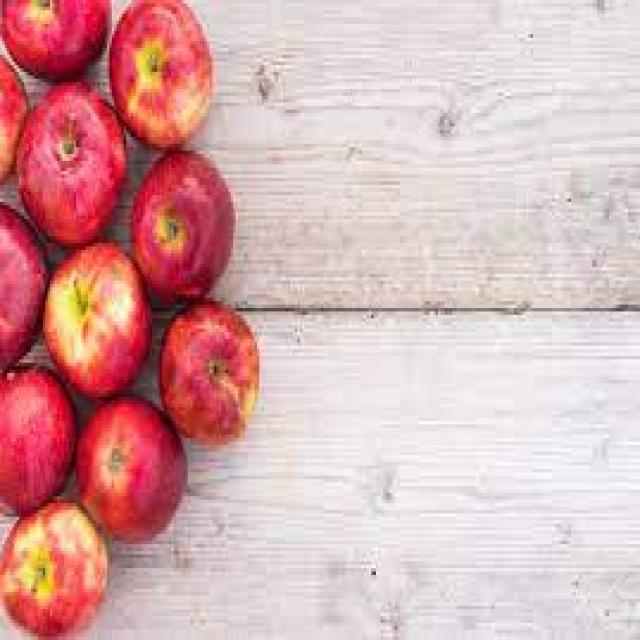apple: (131, 143, 245, 310)
